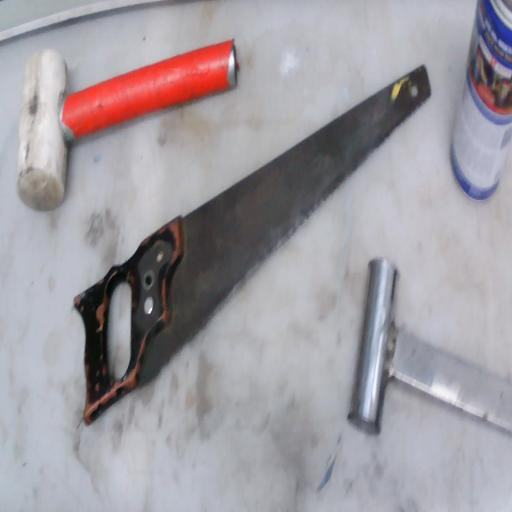gergaji_kayu: (38, 42, 448, 451)
